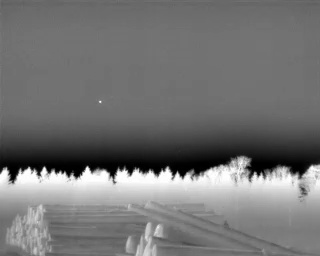BIRD: (97, 98, 103, 106)
